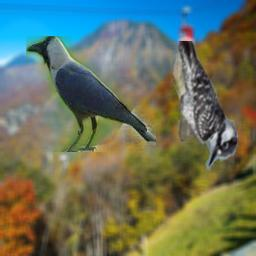Crow: (26, 36, 156, 152)
Woodpecker: (161, 41, 238, 171)
